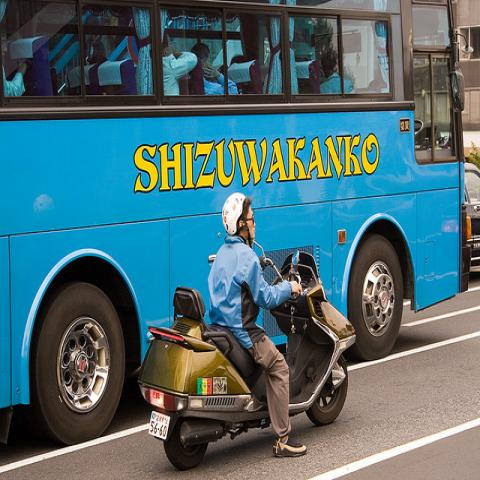bus: (0, 1, 471, 441)
car: (464, 164, 479, 267)
motorcycle: (138, 249, 354, 469)
